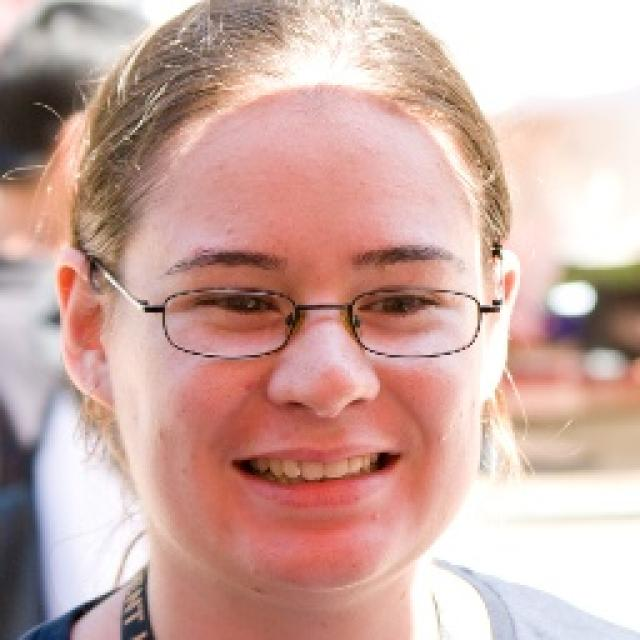earlobe: (53, 250, 116, 410), (479, 249, 522, 401)
